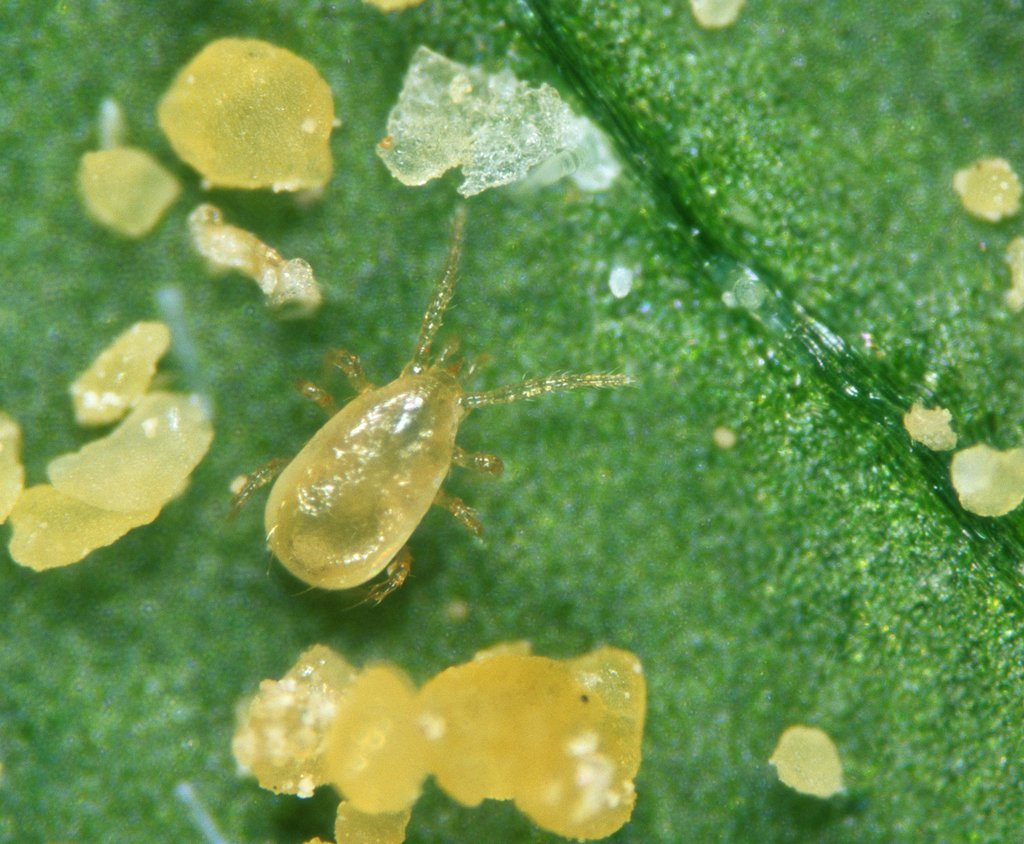Mites: (255, 175, 535, 618)
